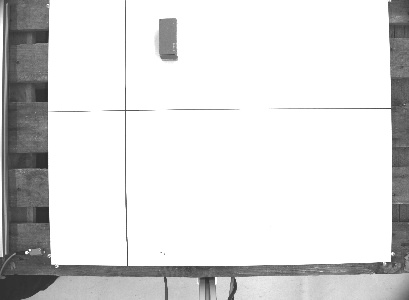b3: (155, 15, 181, 62)
